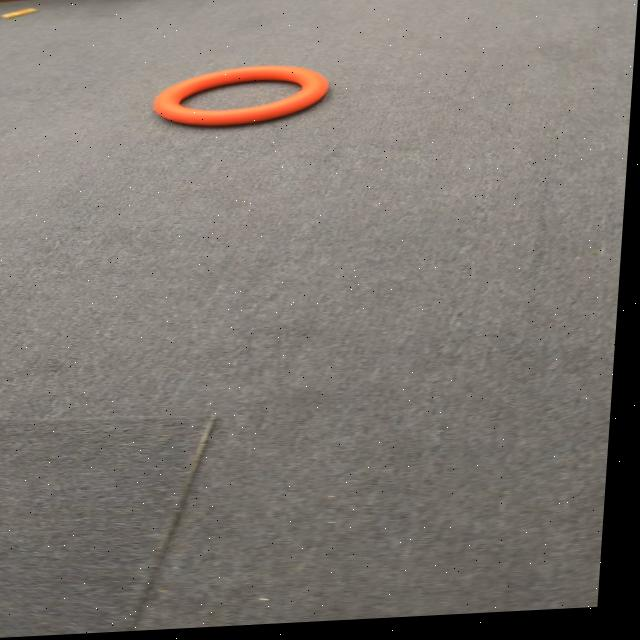note: (150, 66, 334, 135)
